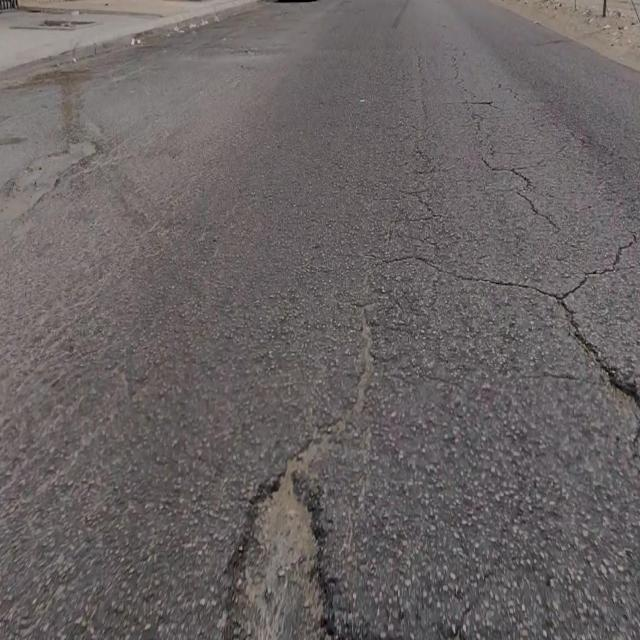Potholes: (228, 458, 378, 640)
